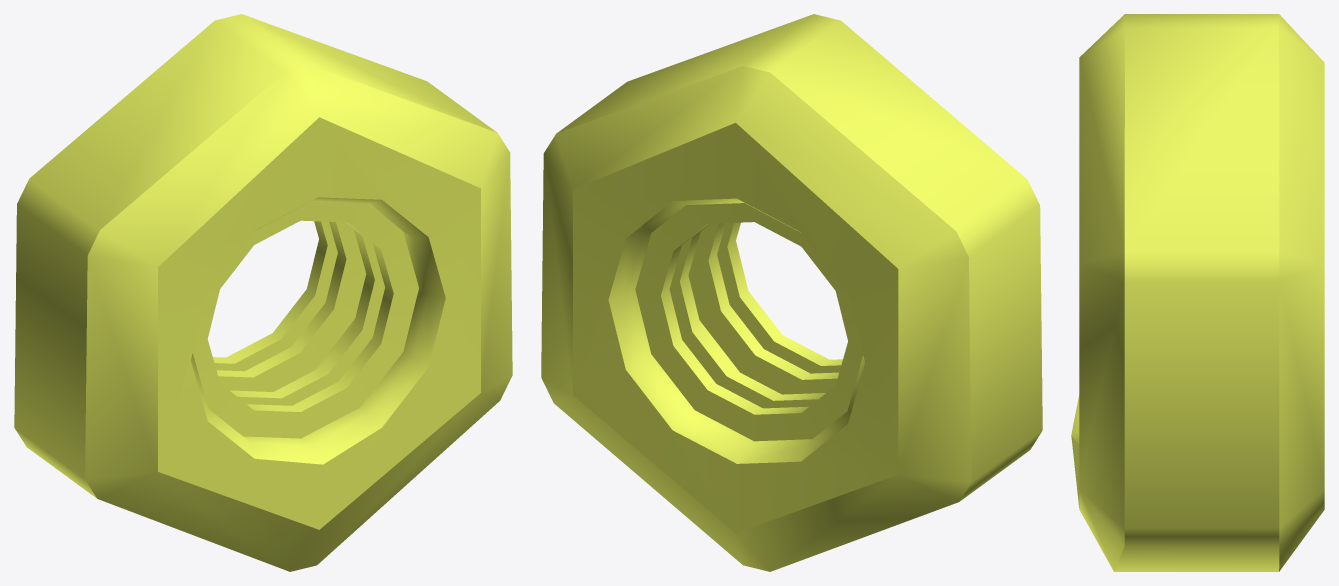
File: collectible.fbx
3 renders of one model, left to right at view 1: azimuth 30°, elevation 25°; view 2: azimuth 150°, elevation 25°; view 3: azimuth 270°, elevation 25°, orthographic. The views are drawn at different scales.
Visible parts, largest first — view 1: coin_low; view 2: coin_low; view 3: coin_low.
Boxes of the visible parts, x1,y1,x2,y2 form: coin_low: (14,14,512,571); coin_low: (541,14,1042,571); coin_low: (1071,14,1324,571).
Size of the model in its own units: 1.8 by 0.8429 by 1.99.
